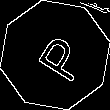P_NW: (24, 26, 86, 84)
